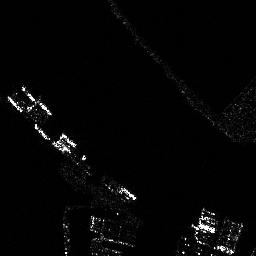ship: (197, 203, 243, 243)
